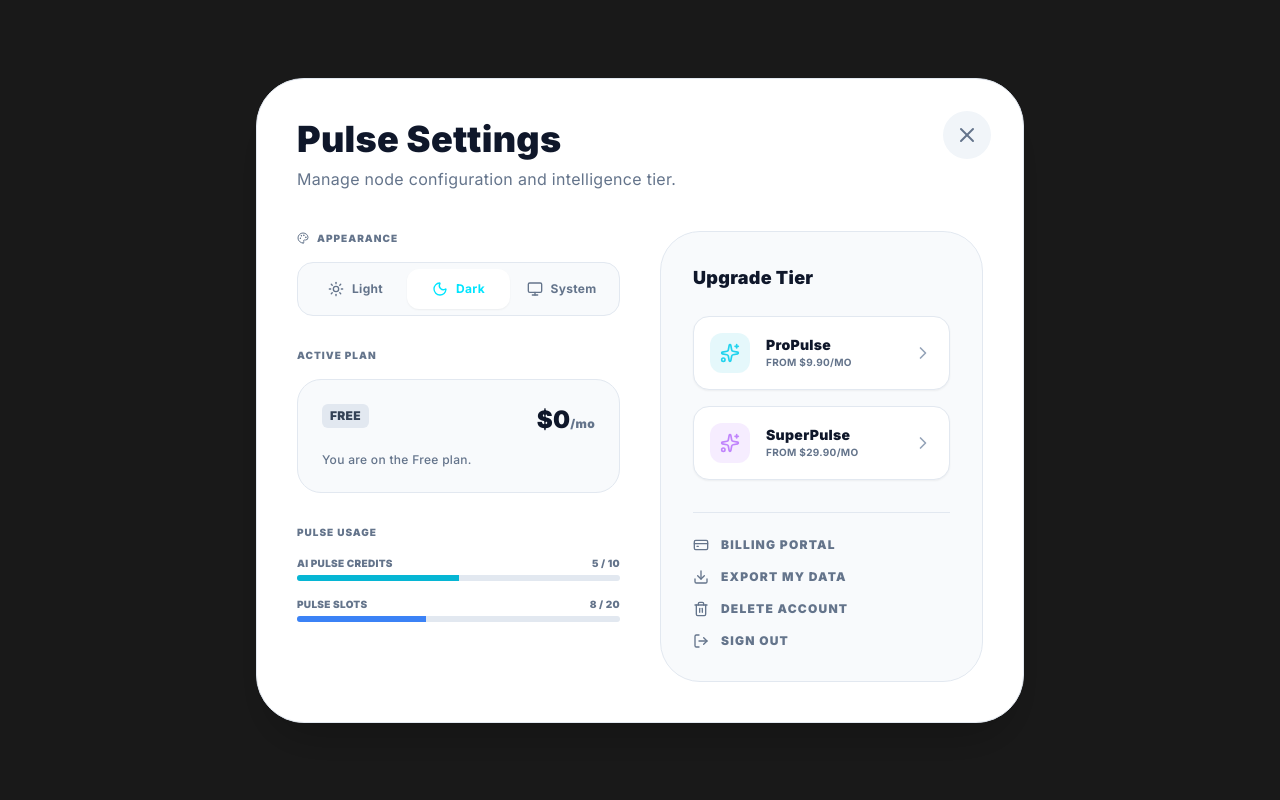
Test: SettingsModal › cancels delete account confirmation
Click the button "Delete Account".
click(771, 608)  # box [693,600,848,616]
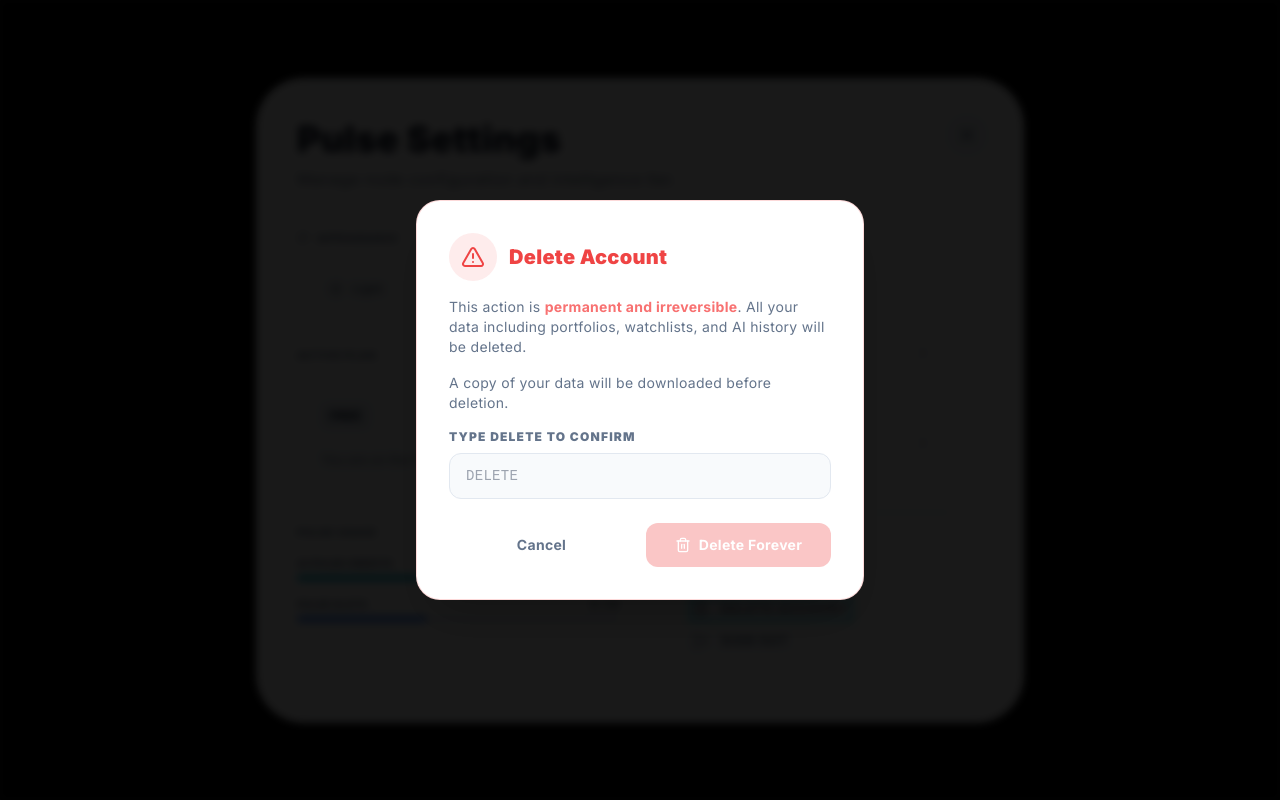
Expected: the button "Delete Forever" is shown, [646,523,831,567]
Click the button "Cancel".
click(542, 545)  # box [449,523,634,567]
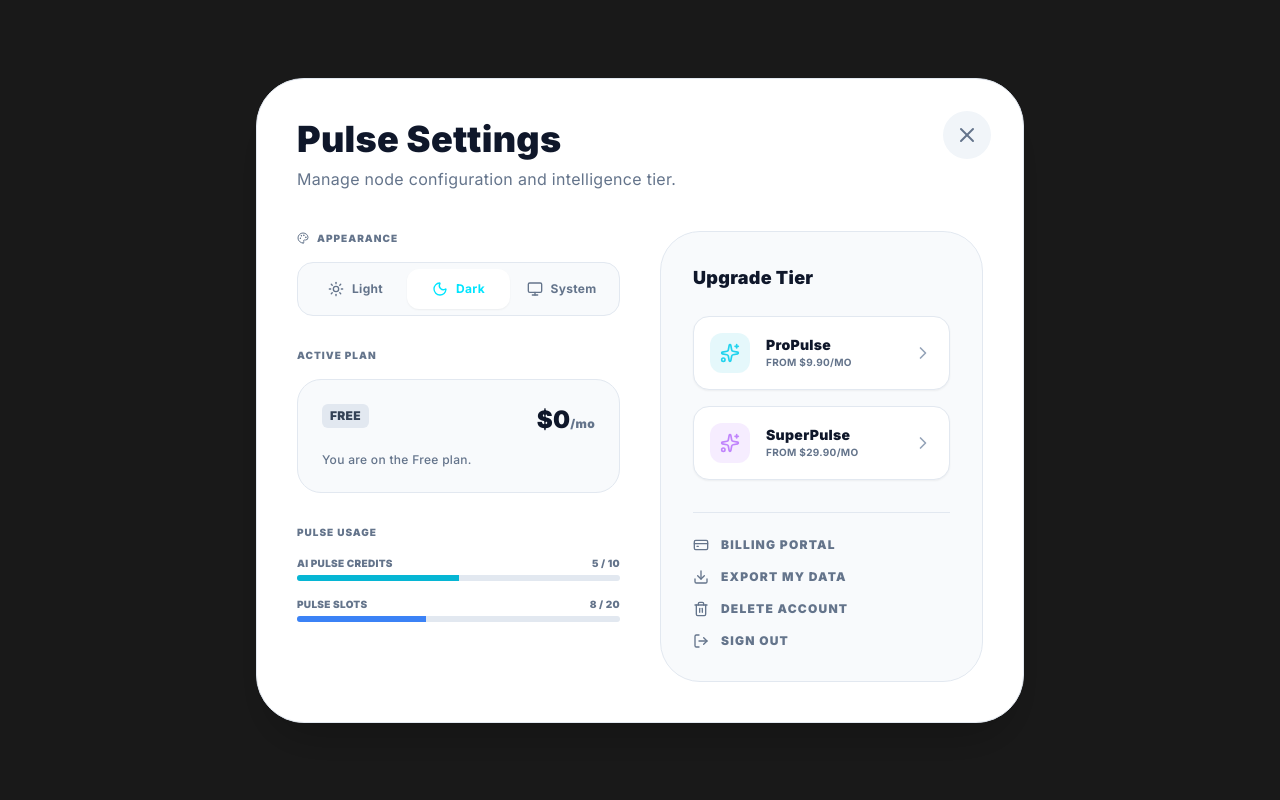
Expected: the button "Delete Forever" is gone
